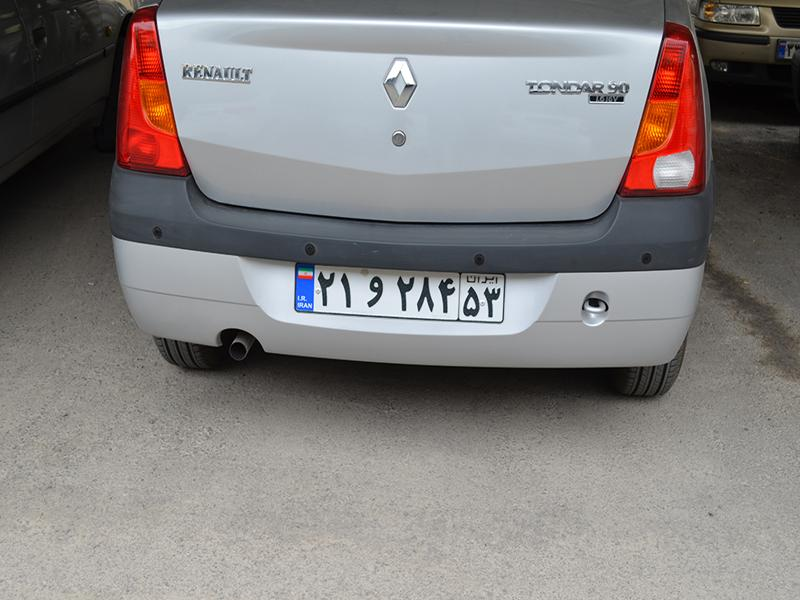Plate: (296, 254, 511, 338)
